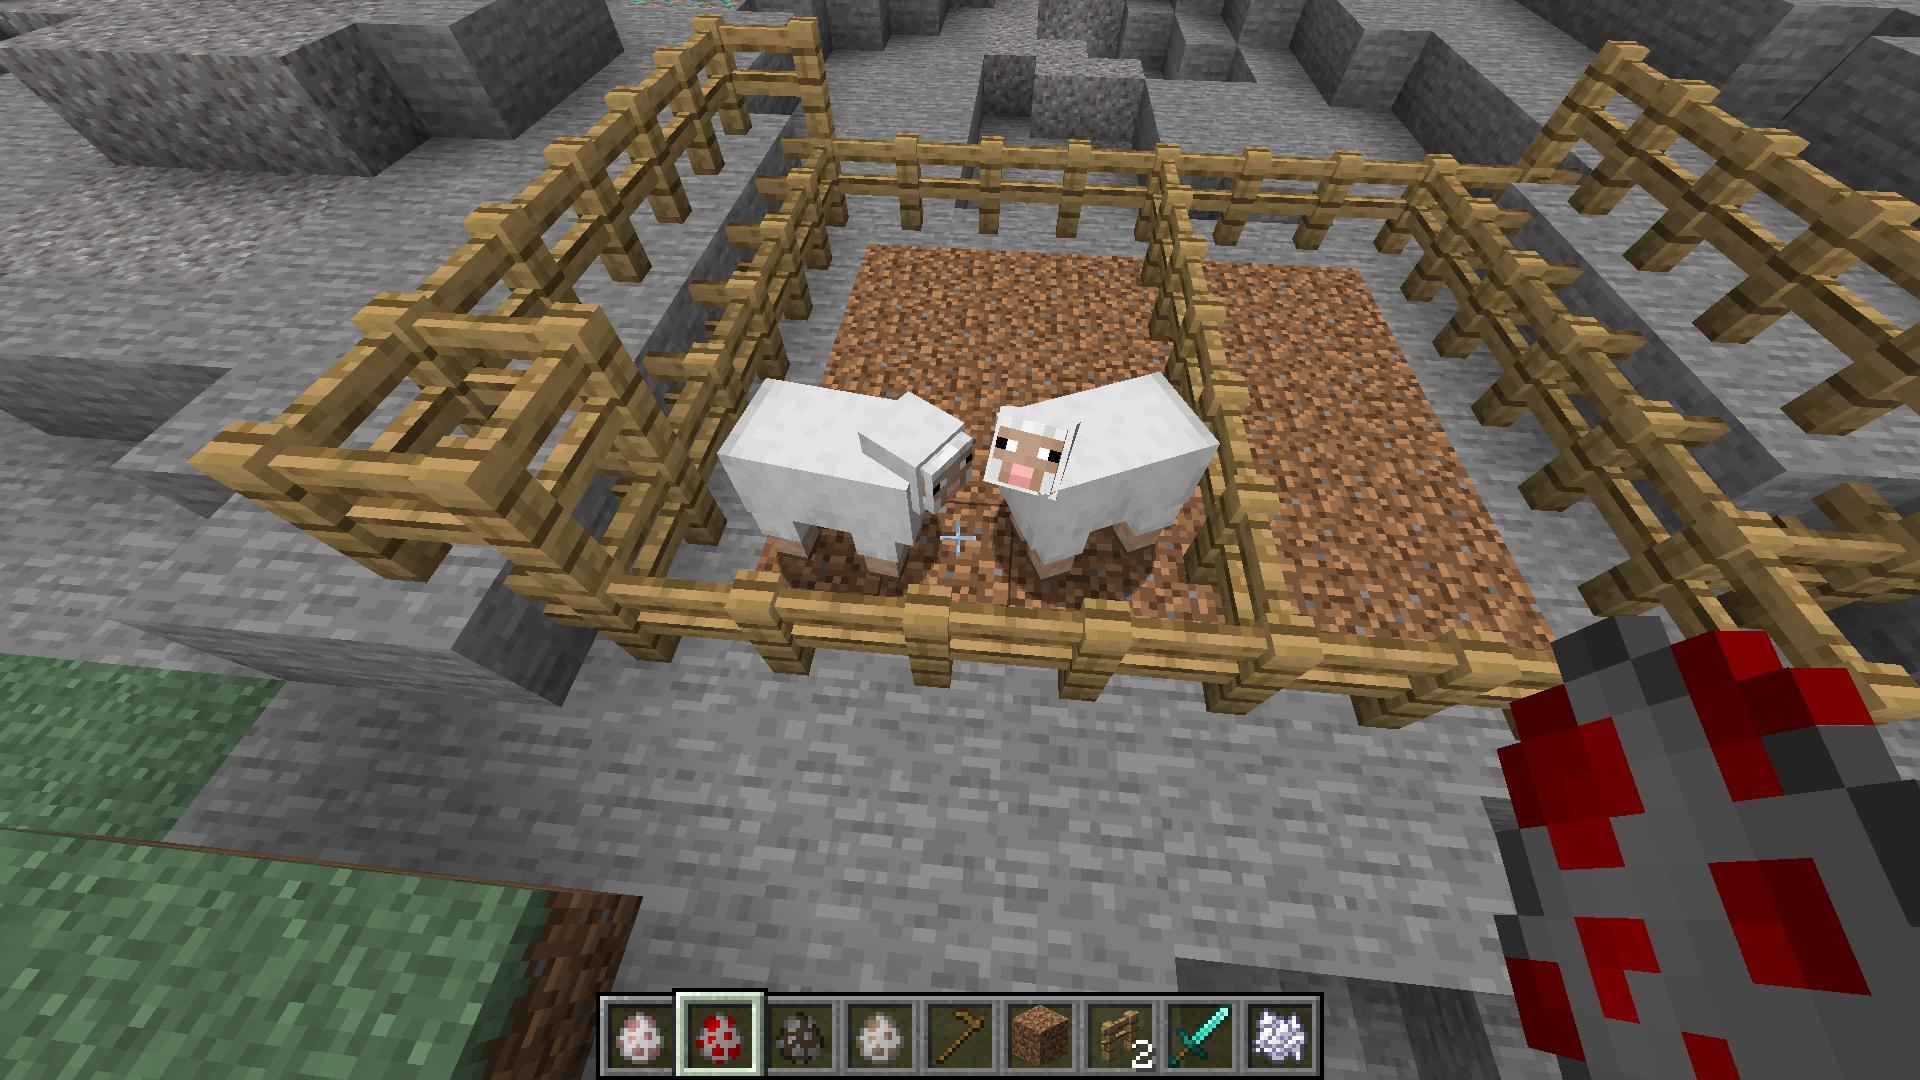sheep: (717, 376, 969, 571), (988, 372, 1220, 583)
